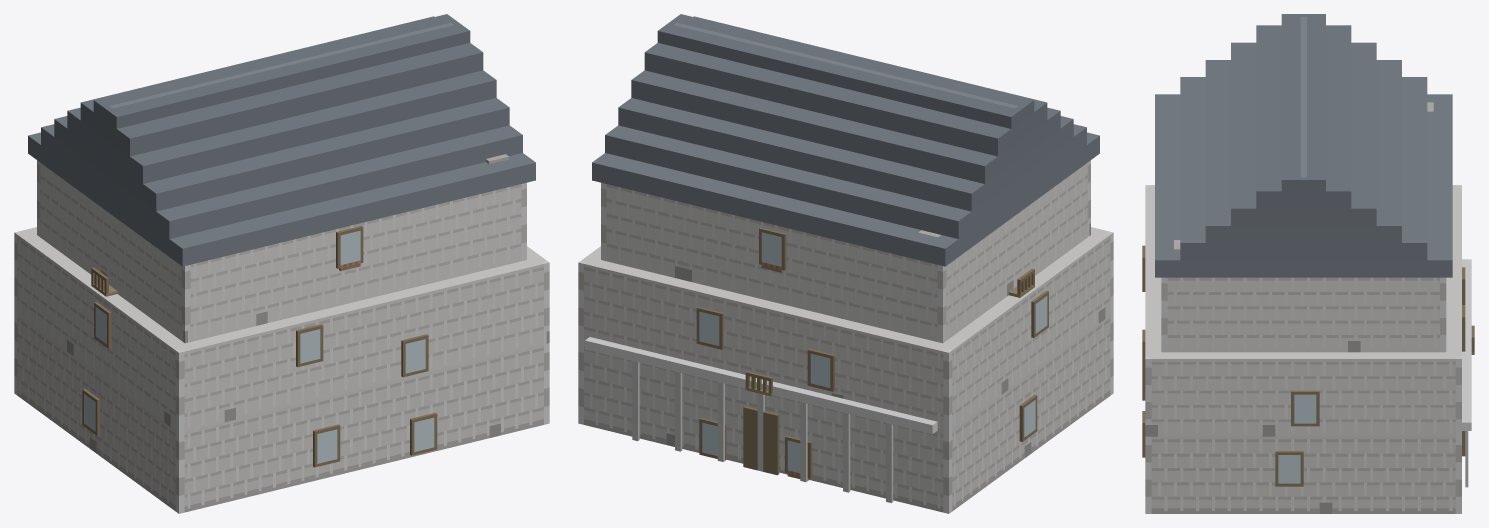
Rendered from mansion_01.glb.
3 renders of one model, left to right at view 1: azimuth 30°, elevation 25°; view 2: azimuth 150°, elevation 25°; view 3: azimuth 270°, elevation 25°, orthographic. The views are drawn at different scales.
Visible parts, largest first — view 1: mansion_01; view 2: mansion_01; view 3: mansion_01.
Boxes of the visible parts, x1,y1,x2,y2 form: mansion_01: [14, 14, 549, 513]; mansion_01: [578, 14, 1113, 513]; mansion_01: [1142, 14, 1474, 513].
Bounding box in the file's own units: 13.2 × 11.5 × 10.5.
